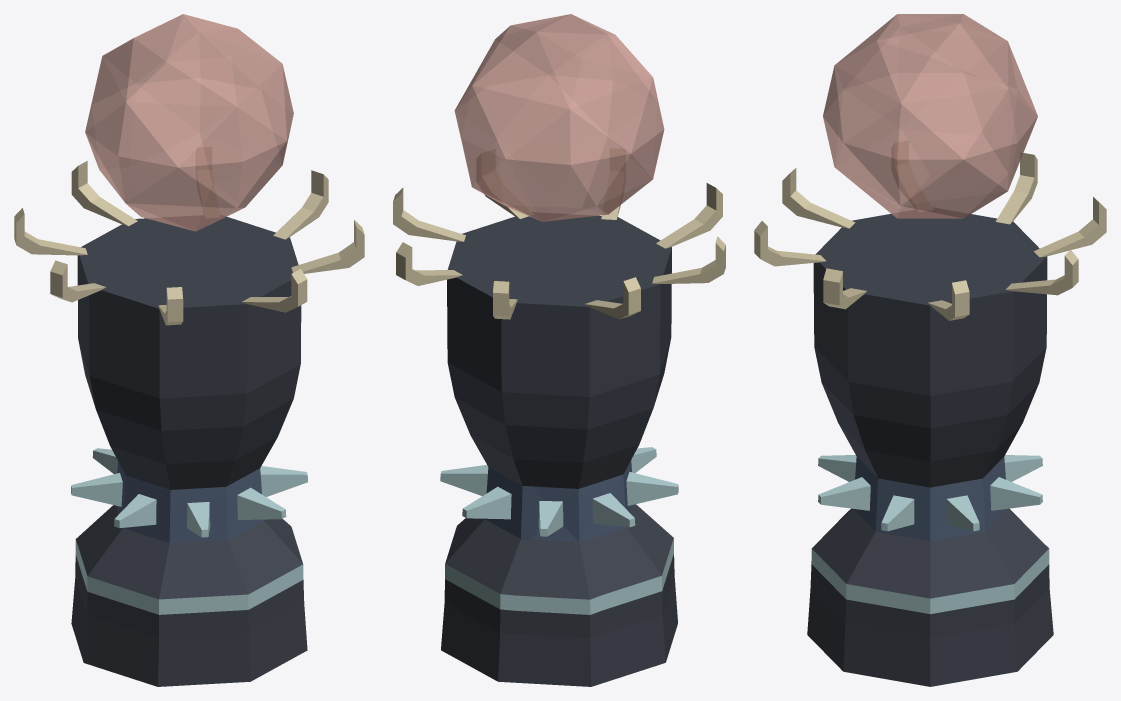
File: TorreBolada00.fbx
3 renders of one model, left to right at view 1: azimuth 30°, elevation 25°; view 2: azimuth 150°, elevation 25°; view 3: azimuth 270°, elevation 25°, orthographic.
Parts seen in each view (by area): view 1: Cylinder, Icosphere; view 2: Cylinder, Icosphere; view 3: Cylinder, Icosphere.
Part boxes in pixels (<box>): Cylinder: <box>14,161,364,686</box>; Icosphere: <box>85,14,293,231</box>; Cylinder: <box>393,183,725,686</box>; Icosphere: <box>454,14,664,221</box>; Cylinder: <box>754,153,1106,686</box>; Icosphere: <box>823,14,1037,218</box>.
Bounding box in the file's own units: 422 × 813 × 422.
